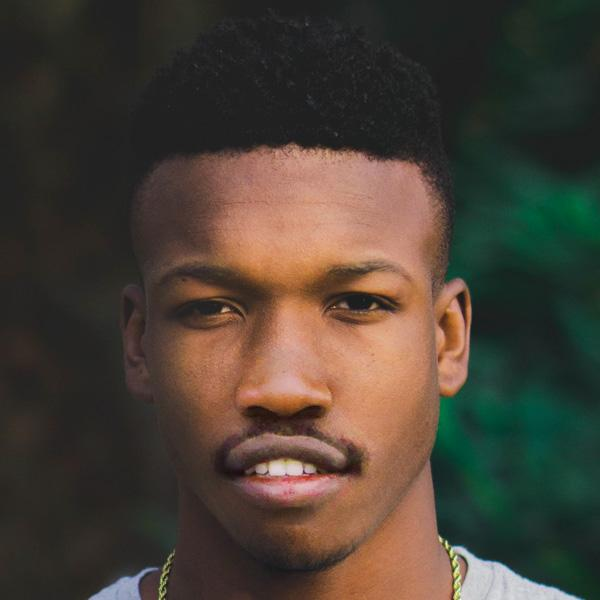Eyes: (312, 284, 403, 330), (167, 289, 249, 331)
